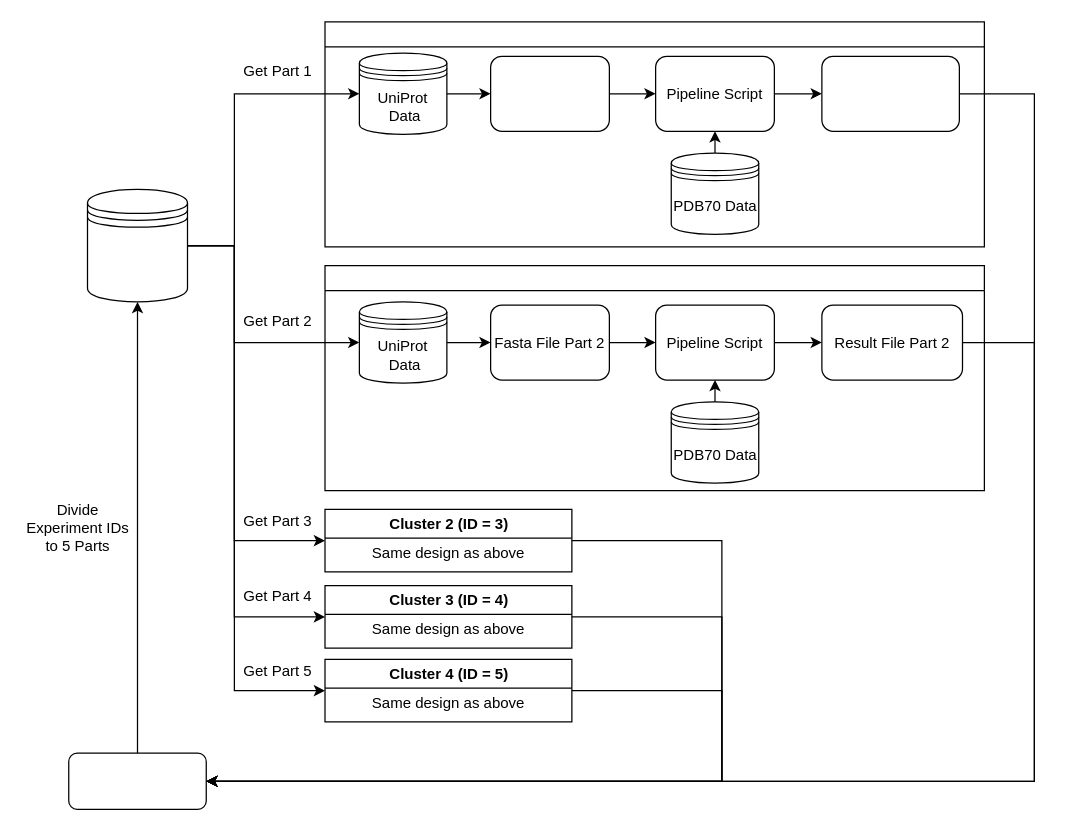
Image size: 1066x831. Some labels were removed from this diagram. The shapes that lost their labels are listed below. From the top down, each one's box as (x1, y1, x2, y2) in pixels, then its label:
(489, 55, 609, 131): Fasta File Part 1
(821, 55, 959, 131): Result File Part 1
(324, 21, 984, 247): Client (ID = 1)
(86, 188, 188, 302): S3 Bucket
(324, 264, 984, 491): Cluster 1 (ID = 2)
(68, 752, 206, 809): Host Machine
